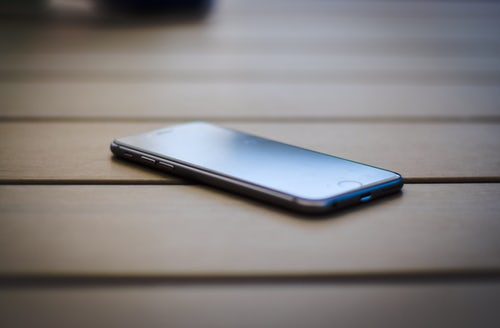phone: (109, 121, 406, 219)
